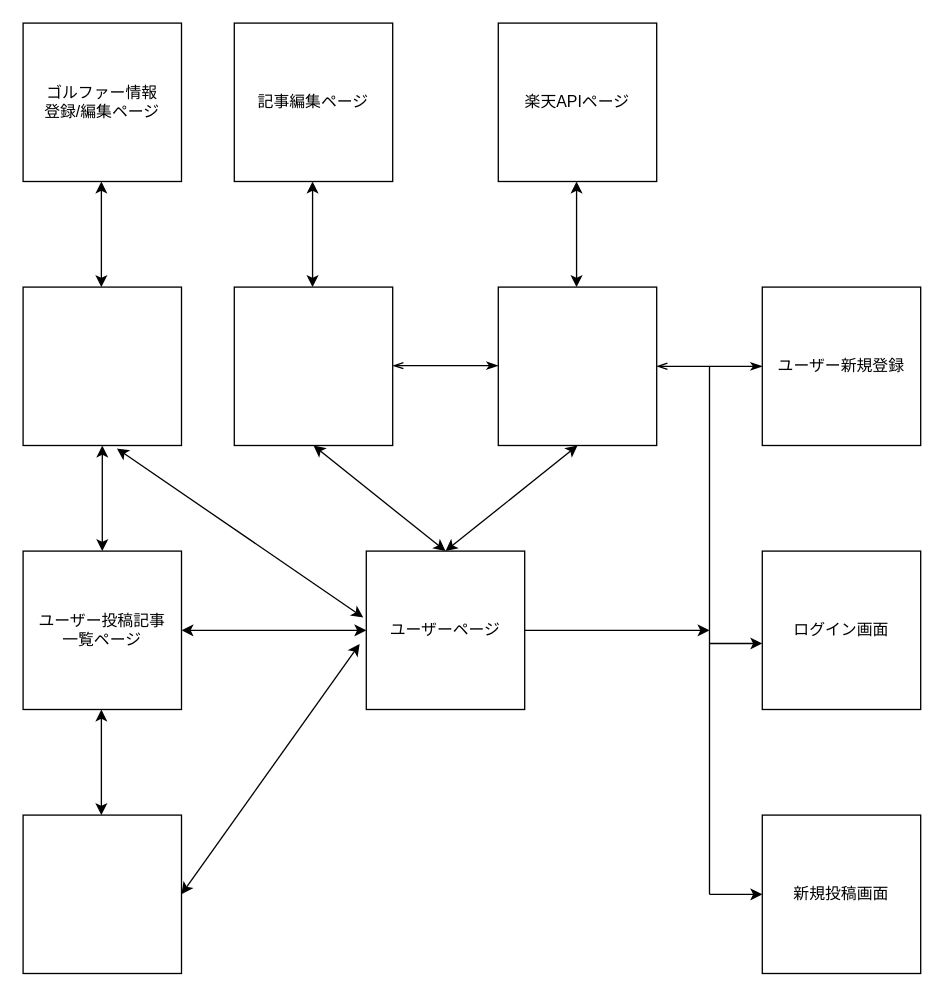
Some shapes in this 944 by 997 pixel diagram are drawn without their labels. Each missing label, with the centre of its shape:
"ゴルファー情報 閲覧ページ" belongs at point 102,366.
"ユーザーお気に入り 一覧ページ" belongs at point 102,894.
"投稿記事一覧 【トップページ】" belongs at point 577,366.
"記事詳細ページ" belongs at point 313,366.
